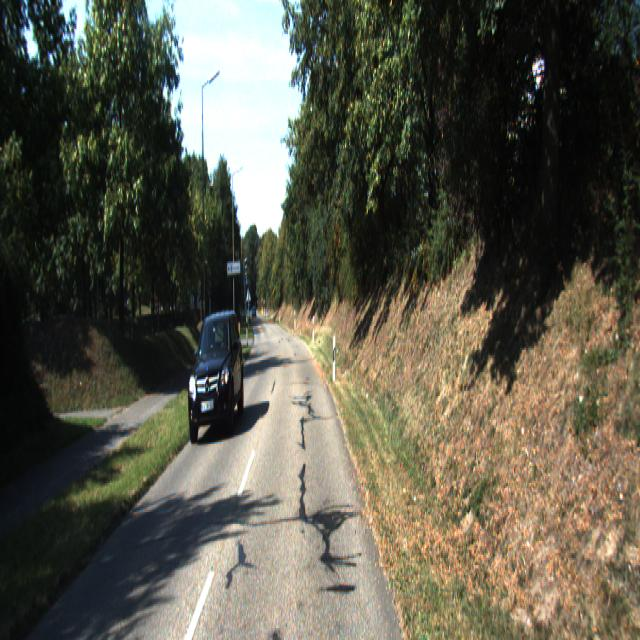Car: (187, 308, 245, 446)
